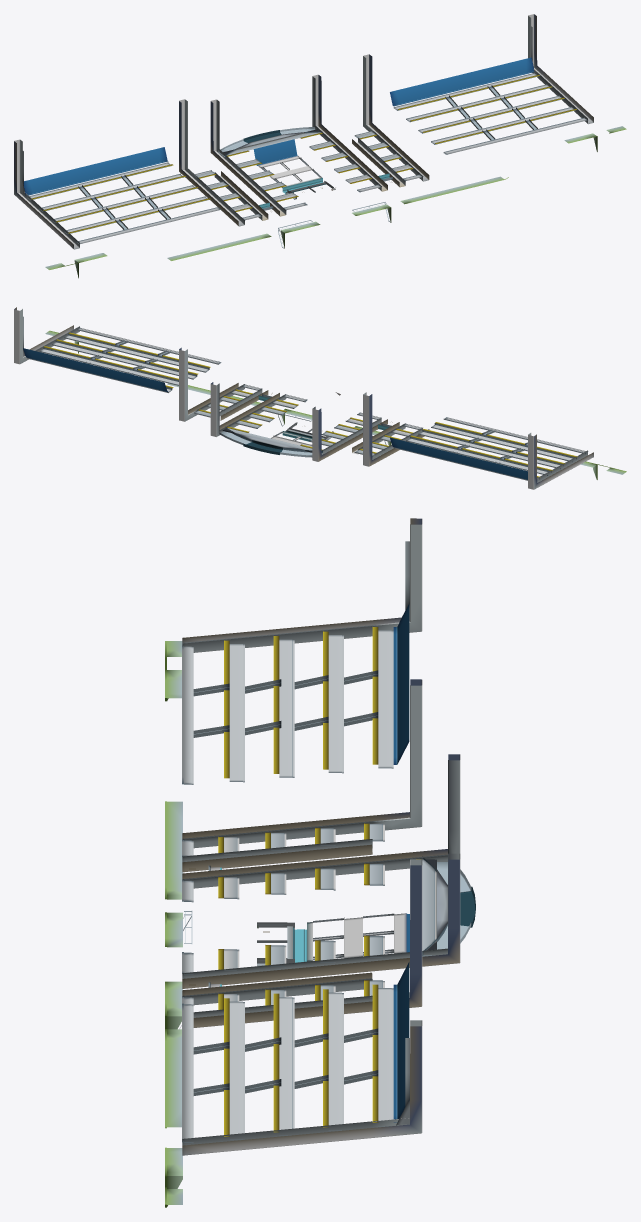
File: SM_000554_merge_w40h001r_at01.fbx
3 renders of one model, top to bottom at view 1: azimuth 30°, elevation 25°; view 2: azimuth 150°, elevation 25°; view 3: azimuth 270°, elevation 25°, orthographic. The views are drawn at different scales.
Visible parts, largest first — view 1: SM_000554.001; view 2: SM_000554.001; view 3: SM_000554.001.
Part boxes in pixels (left/top/right/bottom): SM_000554.001: left=14, top=14, right=626, bottom=278; SM_000554.001: left=14, top=307, right=626, bottom=489; SM_000554.001: left=165, top=518, right=475, bottom=1207.
Size of the model in its own units: 140 by 26.02 by 32.66.
